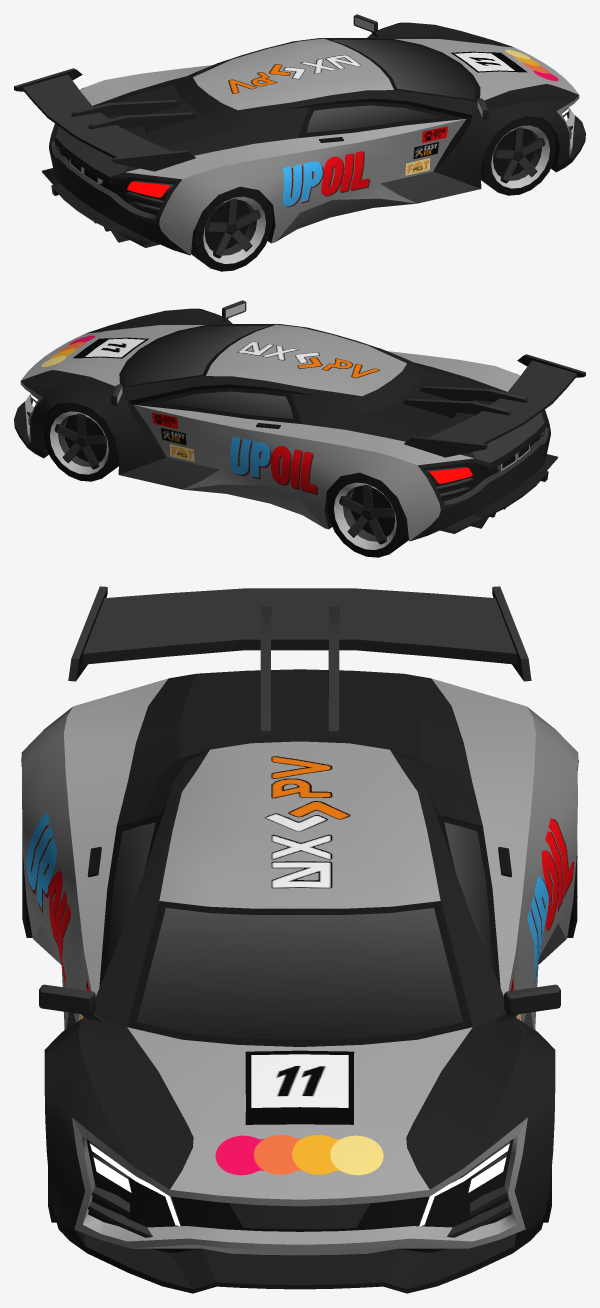
The model's file is RaceCar_024.glb.
3 views of the same model, one above another, from view 1: azimuth 30°, elevation 25°; view 2: azimuth 150°, elevation 25°; view 3: azimuth 270°, elevation 25° (orthographic). The views are drawn at different scales.
Parts seen in each view (by area): view 1: RaceCar_024, wheel_3_RaceCar_024_Wheel_2R, wheel_1_RaceCar_024_Wheel_1R; view 2: RaceCar_024, wheel_2_RaceCar_024_Wheel_2L, wheel_0_RaceCar_024_Wheel_1L; view 3: RaceCar_024.
Part boxes in pixels (x1=…): RaceCar_024: x1=14, y1=14, x2=585, y2=255; wheel_3_RaceCar_024_Wheel_2R: x1=191, y1=186, x2=272, y2=271; wheel_1_RaceCar_024_Wheel_1R: x1=480, y1=116, x2=556, y2=195; RaceCar_024: x1=14, y1=300, x2=585, y2=541; wheel_2_RaceCar_024_Wheel_2L: x1=327, y1=472, x2=408, y2=557; wheel_0_RaceCar_024_Wheel_1L: x1=43, y1=402, x2=119, y2=481; RaceCar_024: x1=21, y1=586, x2=578, y2=1293.
Bounding box in the file's own units: 4.89 × 1.14 × 2.35.
3 materials, 3 textured.
